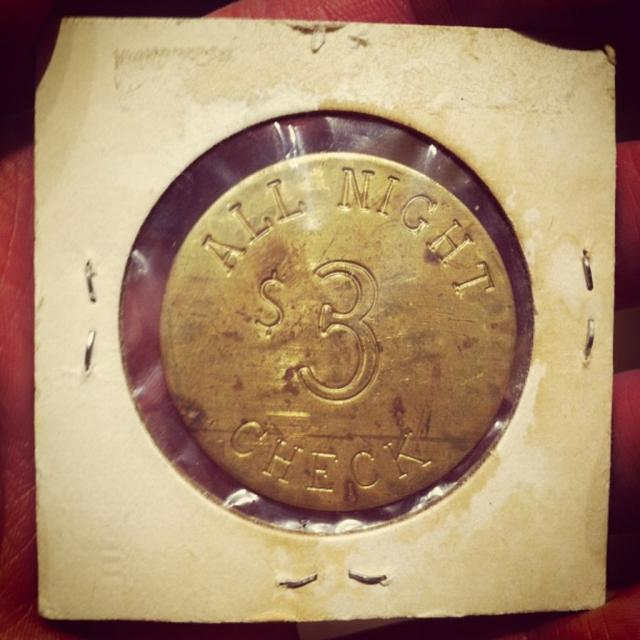Coin: (158, 147, 519, 510)
